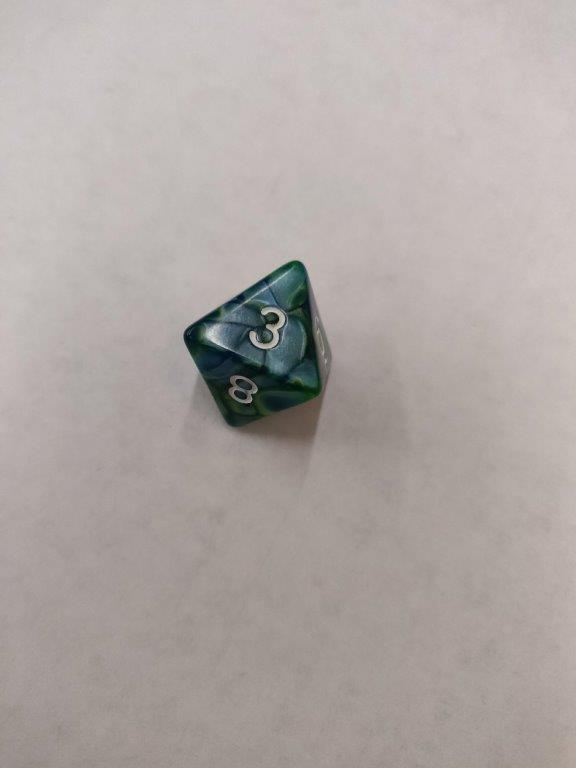d8-3: (181, 260, 333, 434)
